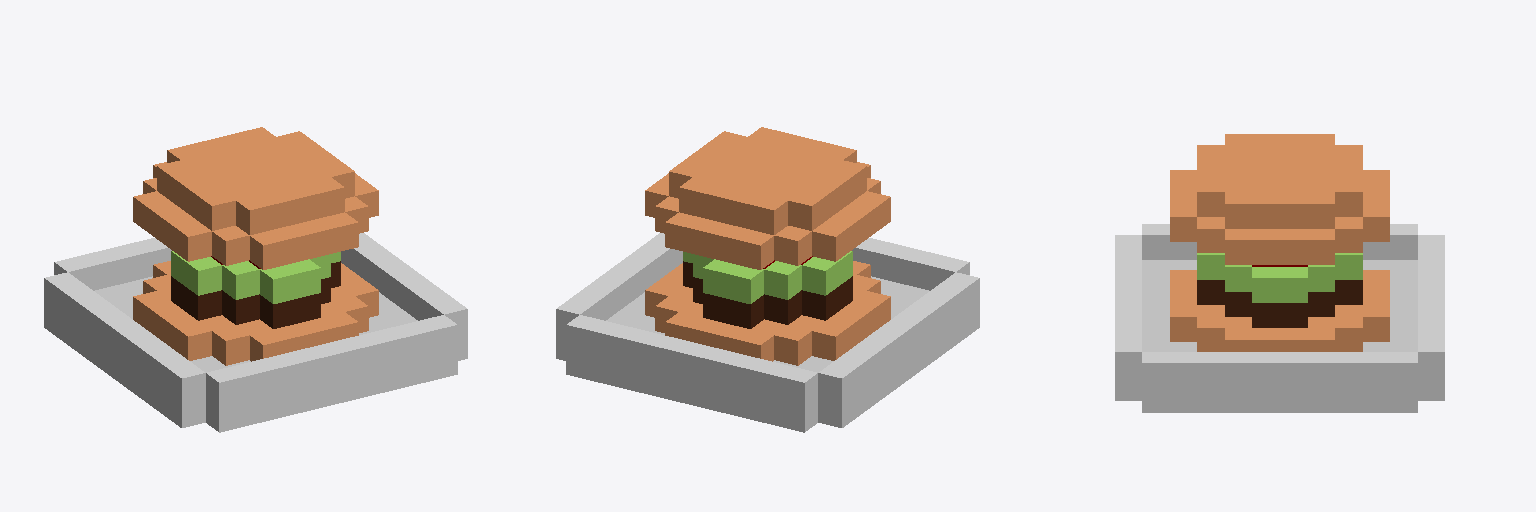
The picture shows the model from 3 angles: view 1: azimuth 30°, elevation 25°; view 2: azimuth 150°, elevation 25°; view 3: azimuth 270°, elevation 25°; orthographic projection.
Visible parts, largest first — view 1: object 1; view 2: object 1; view 3: object 1.
Part boxes in pixels (x1,y1,x2,y2): object 1: (44, 127, 467, 432); object 1: (556, 127, 979, 432); object 1: (1115, 134, 1444, 412).
Bounding box in the file's own units: 1.2 × 0.7 × 1.2.
1 materials, 1 textured.